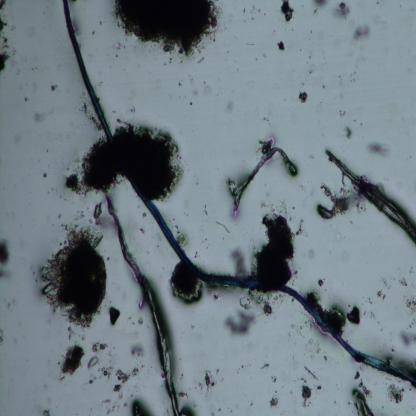Background material: (66, 114, 184, 193), (35, 228, 108, 330), (112, 2, 222, 56), (254, 214, 296, 286), (284, 318, 327, 366), (316, 184, 351, 219), (172, 261, 198, 300), (76, 196, 106, 228), (224, 309, 256, 336), (254, 293, 286, 319), (59, 344, 85, 374), (0, 4, 11, 74), (112, 368, 140, 393), (324, 305, 348, 333), (353, 388, 377, 415), (87, 364, 113, 387), (232, 244, 248, 276), (130, 398, 156, 416), (126, 340, 148, 360), (302, 363, 322, 385), (349, 366, 368, 389), (0, 235, 11, 270), (174, 221, 190, 244), (347, 306, 362, 329), (389, 384, 406, 404), (404, 294, 416, 322), (369, 142, 391, 157), (294, 213, 306, 239), (107, 305, 121, 326), (399, 329, 416, 346), (332, 2, 352, 16), (88, 338, 108, 352), (281, 3, 294, 23), (354, 25, 371, 40), (299, 385, 312, 403), (32, 110, 48, 124), (204, 374, 216, 390), (21, 90, 32, 106), (397, 272, 408, 287), (344, 126, 354, 142), (240, 295, 251, 309), (88, 356, 100, 368), (269, 397, 280, 408), (299, 90, 309, 102), (379, 290, 389, 302), (313, 277, 324, 287), (270, 372, 278, 385), (278, 41, 286, 53), (204, 84, 212, 95), (42, 405, 50, 416), (40, 170, 48, 180), (260, 363, 270, 371), (50, 83, 58, 90)
Cellulose filter fibre: (104, 191, 184, 410), (325, 149, 416, 242), (226, 146, 299, 212)
Cotton: (62, 0, 416, 388)
